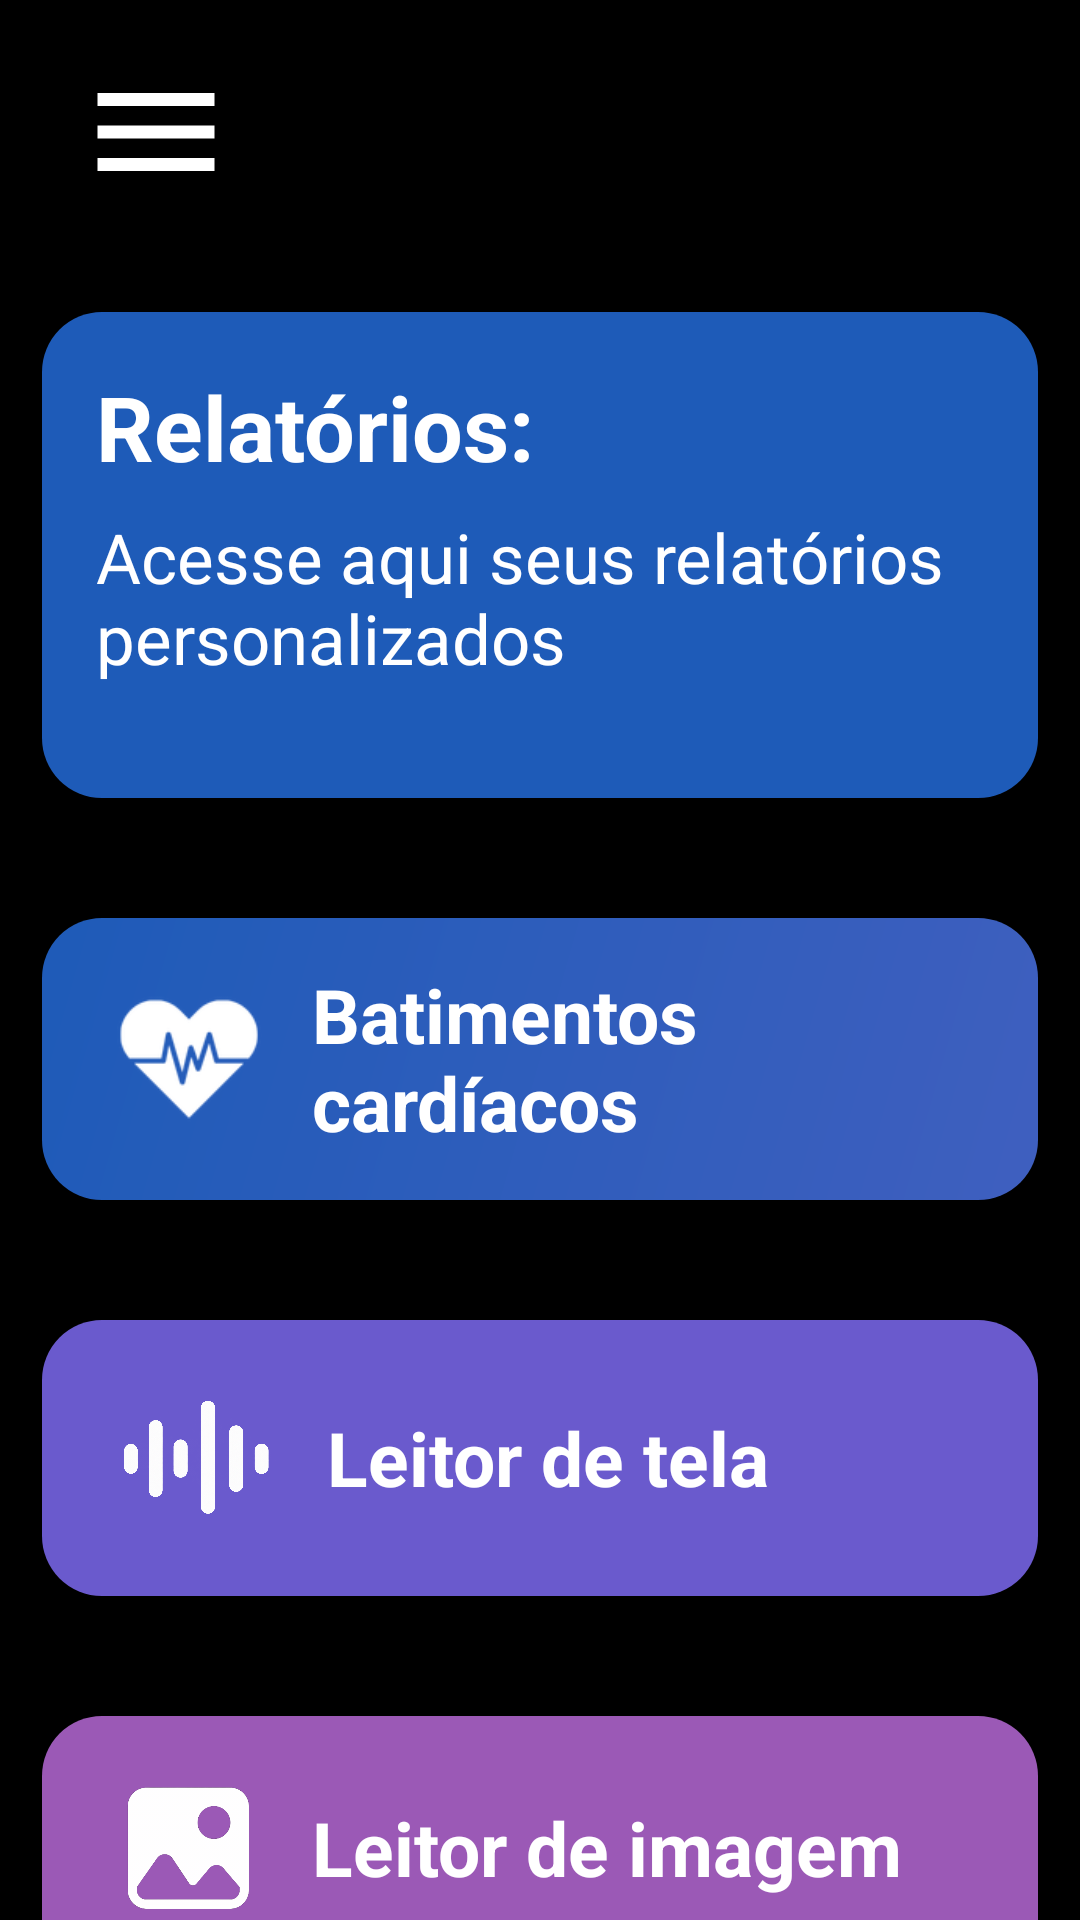

Named icons in this screenshot (1080 × 1920) and their bounding boxes, (x1, y1, x2, y2):
Abrir menu: (97, 93, 215, 171)
